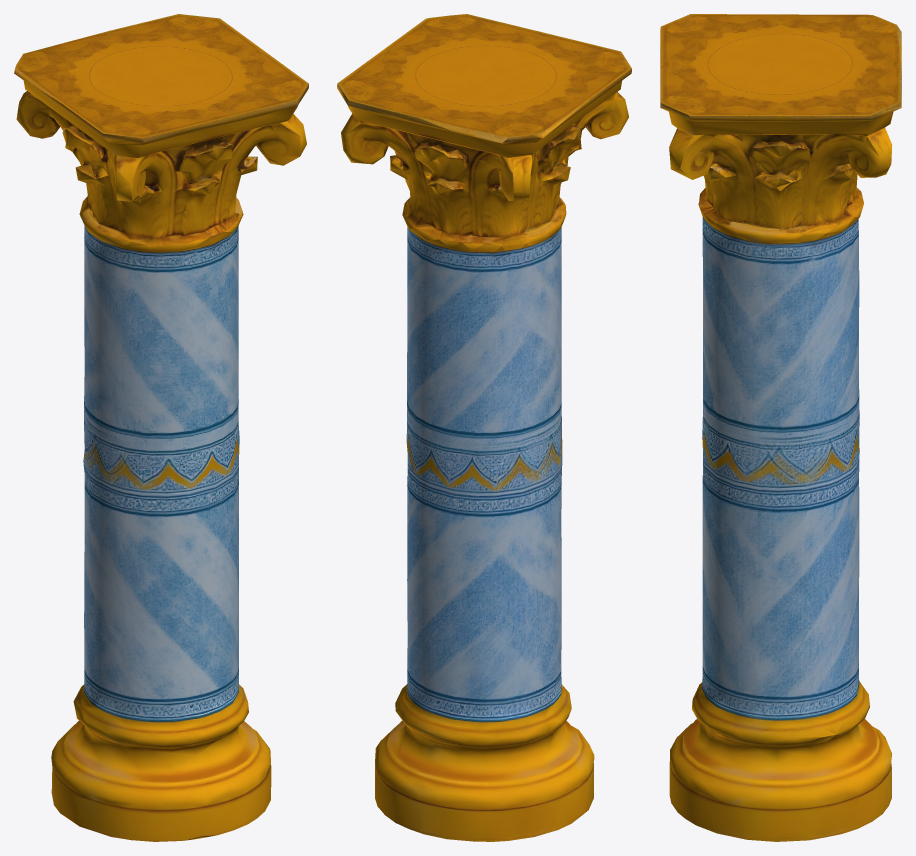
Rendered from blk_city_pillar.glb.
3 renders of one model, left to right at view 1: azimuth 30°, elevation 25°; view 2: azimuth 150°, elevation 25°; view 3: azimuth 270°, elevation 25°, orthographic.
Bounding box in the file's own units: 0.5989 × 2 × 0.5994.
Materials: 1 (1 with a texture image).
